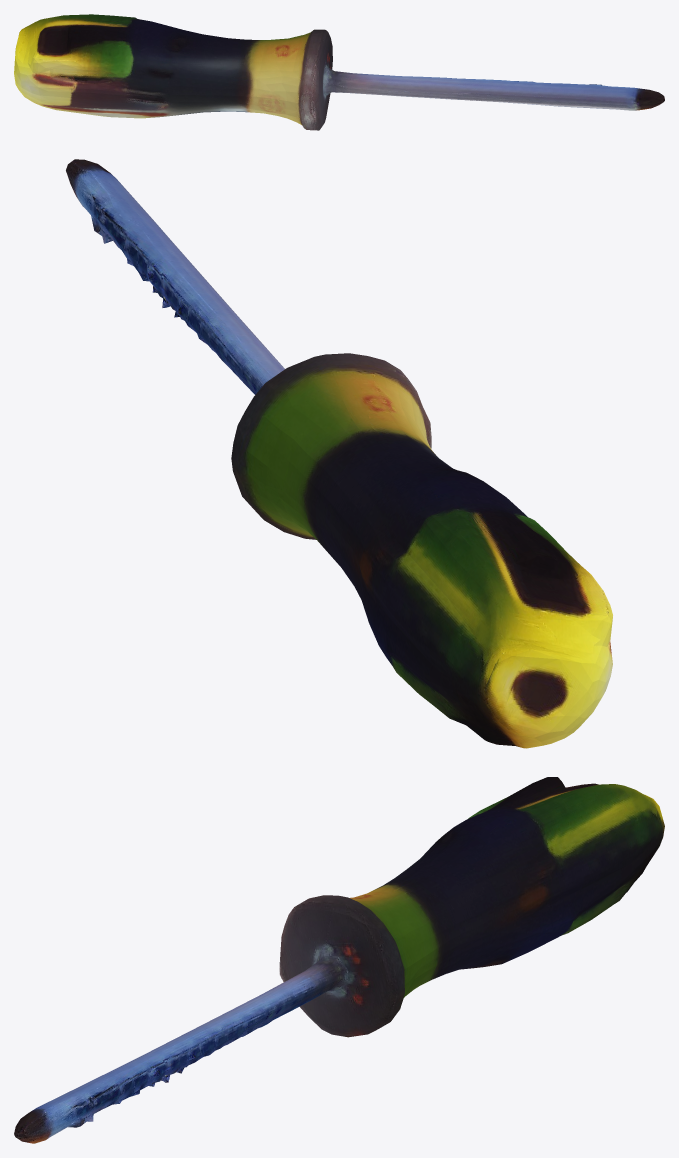
Rendered from obj08_baseline.glb.
3 views of the same model, one above another, from view 1: azimuth 30°, elevation 25°; view 2: azimuth 150°, elevation 25°; view 3: azimuth 270°, elevation 25° (orthographic). The views are drawn at different scales.
Visible parts, largest first — view 1: n1; view 2: n1; view 3: n1.
Part boxes in pixels (bbox=[...]): n1: bbox=[14, 14, 664, 130]; n1: bbox=[66, 159, 612, 748]; n1: bbox=[14, 777, 664, 1143].
Size of the model in its own units: 0.9239 by 0.1768 by 0.7688.
1 material, 1 textured.
